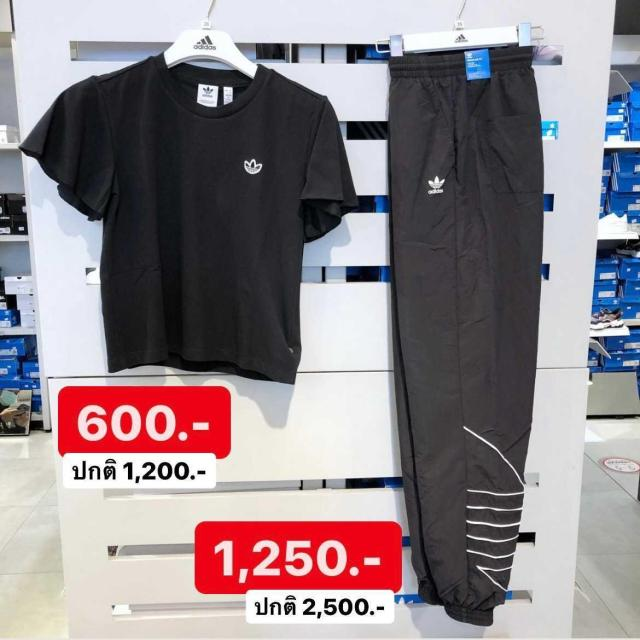Tshirt: (22, 61, 357, 380)
pants: (383, 41, 551, 627)
